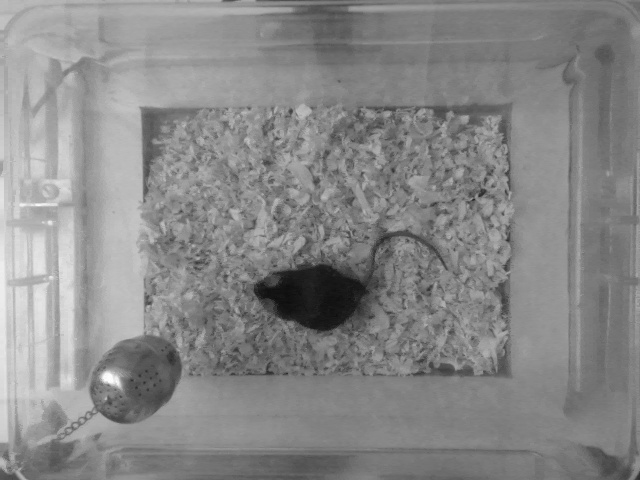mice: (252, 226, 456, 333)
